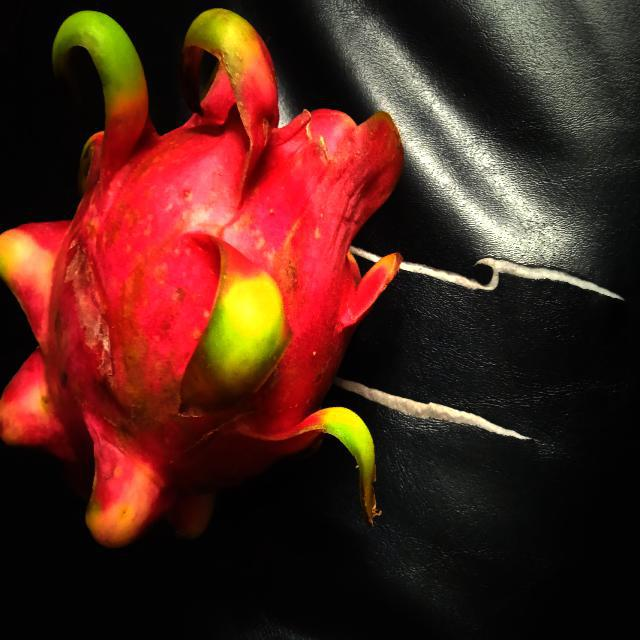do: (0, 4, 407, 552)
